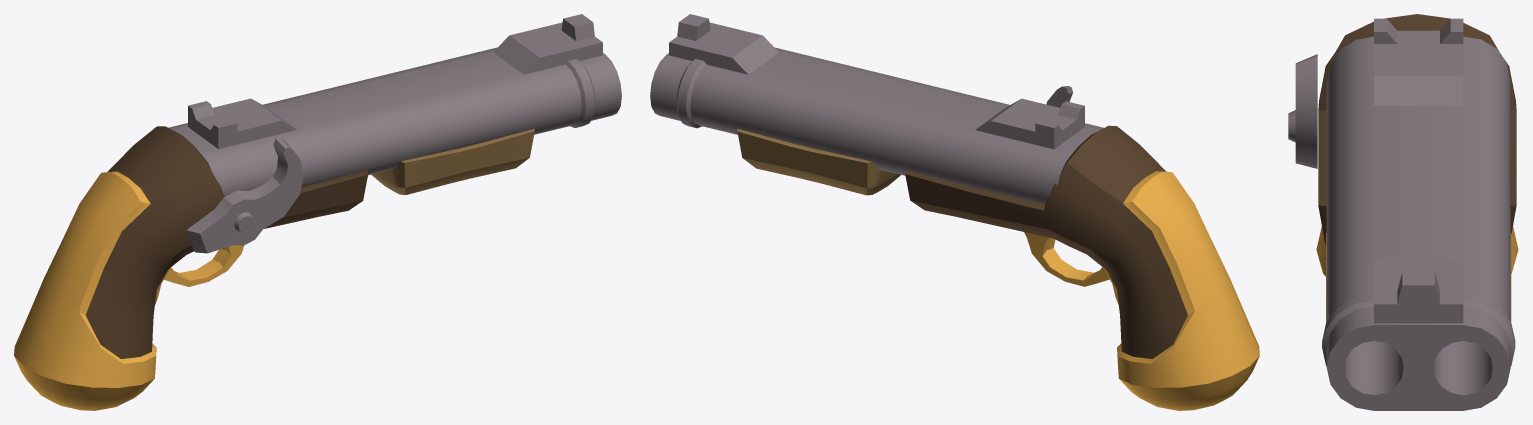
Rendered from Shotgun.glb.
3 renders of one model, left to right at view 1: azimuth 30°, elevation 25°; view 2: azimuth 150°, elevation 25°; view 3: azimuth 270°, elevation 25°, orthographic. The views are drawn at different scales.
Visible parts, largest first — view 1: Weapon_DoubleShotgun; view 2: Weapon_DoubleShotgun; view 3: Weapon_DoubleShotgun.
Boxes of the visible parts, x1,y1,x2,y2 form: Weapon_DoubleShotgun: (14, 14, 621, 410); Weapon_DoubleShotgun: (650, 14, 1259, 410); Weapon_DoubleShotgun: (1288, 14, 1518, 410).
Bounding box in the file's own units: 1.58 × 0.6987 × 0.3802.
Materials: 1 (1 with a texture image).
